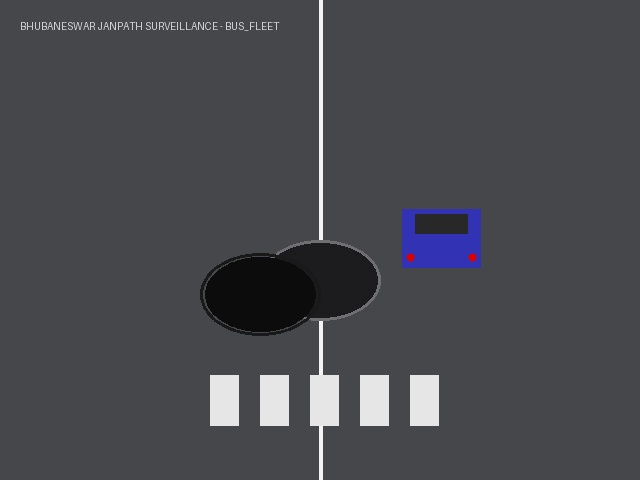pothole: (205, 257, 315, 331)
vehicle: (402, 209, 481, 267)
zebra_crossing: (190, 370, 450, 430)
